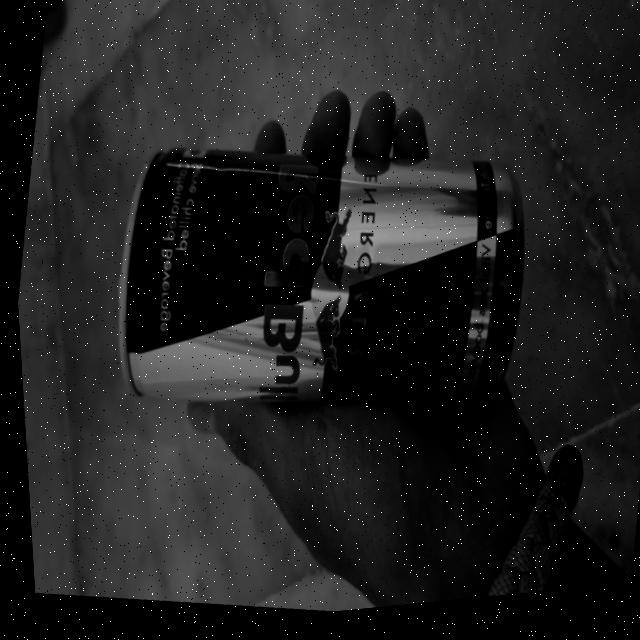Redbul: (78, 104, 536, 474)
